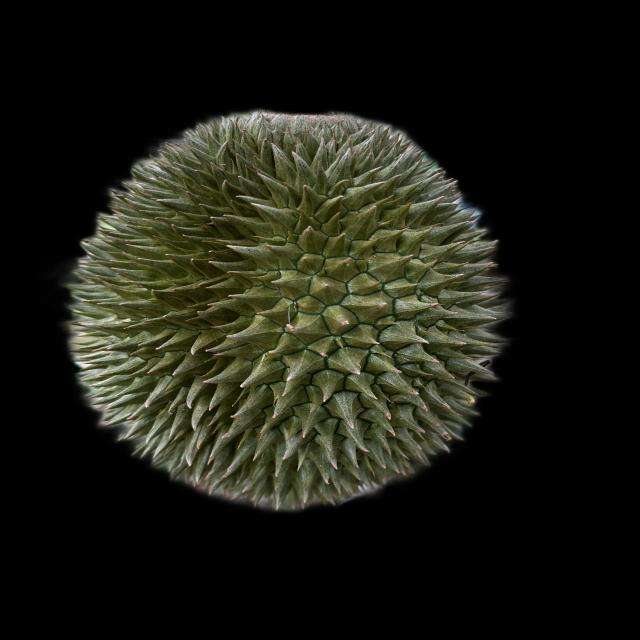immature: (56, 113, 509, 513)
